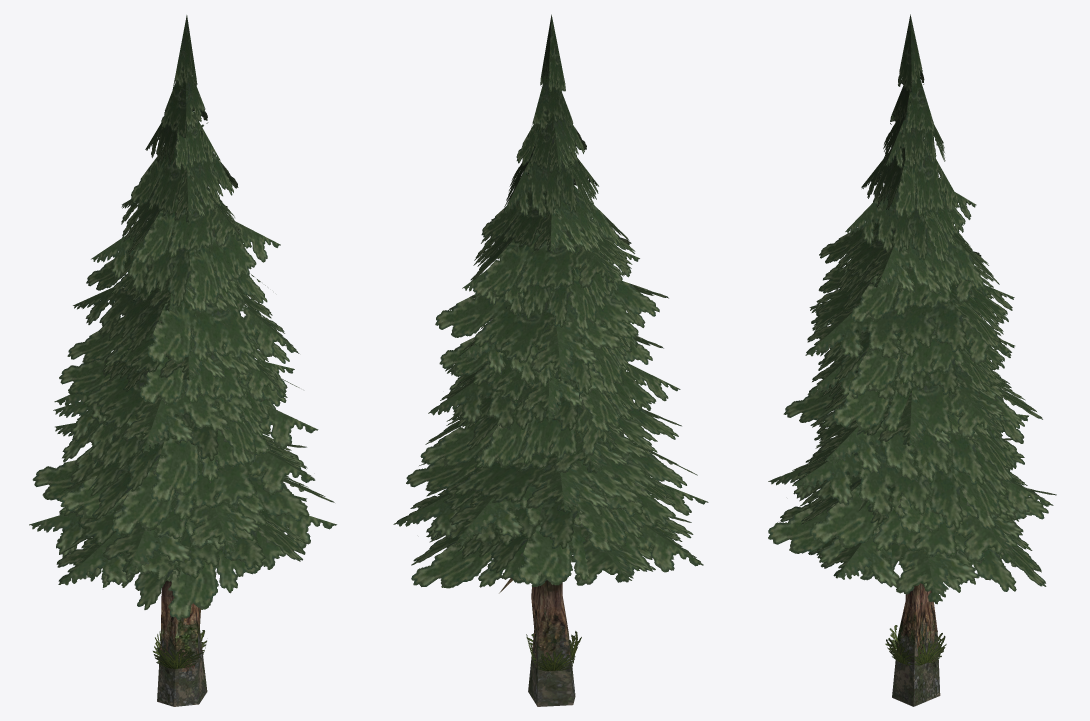
File: C1SNPNA.obj
3 views of the same model, side by side, from view 1: azimuth 30°, elevation 25°; view 2: azimuth 150°, elevation 25°; view 3: azimuth 270°, elevation 25° (orthographic).
Visible parts, largest first — view 1: Node 0; view 2: Node 0; view 3: Node 0.
Boxes of the visible parts, x1=… form: Node 0: x1=29, y1=15, x2=336, y2=706; Node 0: x1=393, y1=14, x2=708, y2=706; Node 0: x1=768, y1=14, x2=1056, y2=706.
Bounding box in the file's own units: 13.16 × 28.81 × 12.41.
Materials: 1 (1 with a texture image).
